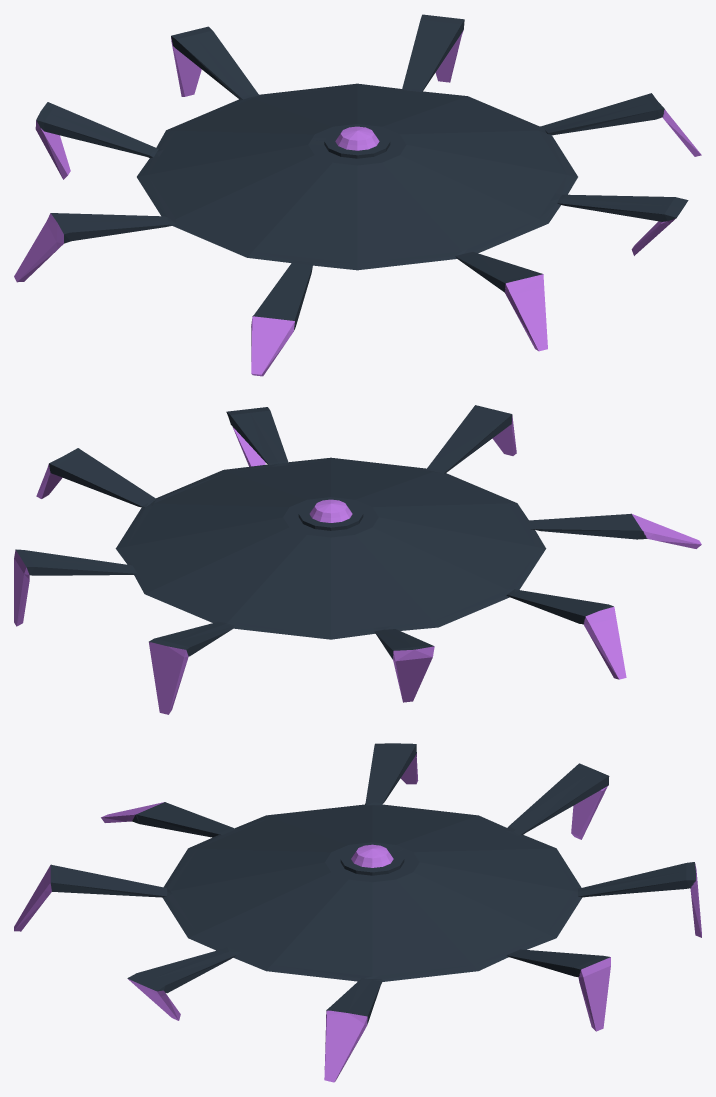
File: Spider_Walk_000005.obj
The picture shows the model from 3 angles, top to bottom: view 1: azimuth 30°, elevation 25°; view 2: azimuth 150°, elevation 25°; view 3: azimuth 270°, elevation 25°; orthographic projection. The views are drawn at different scales.
Visible parts, largest first — view 1: Circle_Circle.001; view 2: Circle_Circle.001; view 3: Circle_Circle.001.
Part boxes in pixels (box(x1,y1,x2,y2)): Circle_Circle.001: box(14, 14, 701, 376); Circle_Circle.001: box(14, 405, 701, 714); Circle_Circle.001: box(14, 743, 701, 1082).
Size of the model in its own units: 3.37 by 0.4573 by 3.23.
